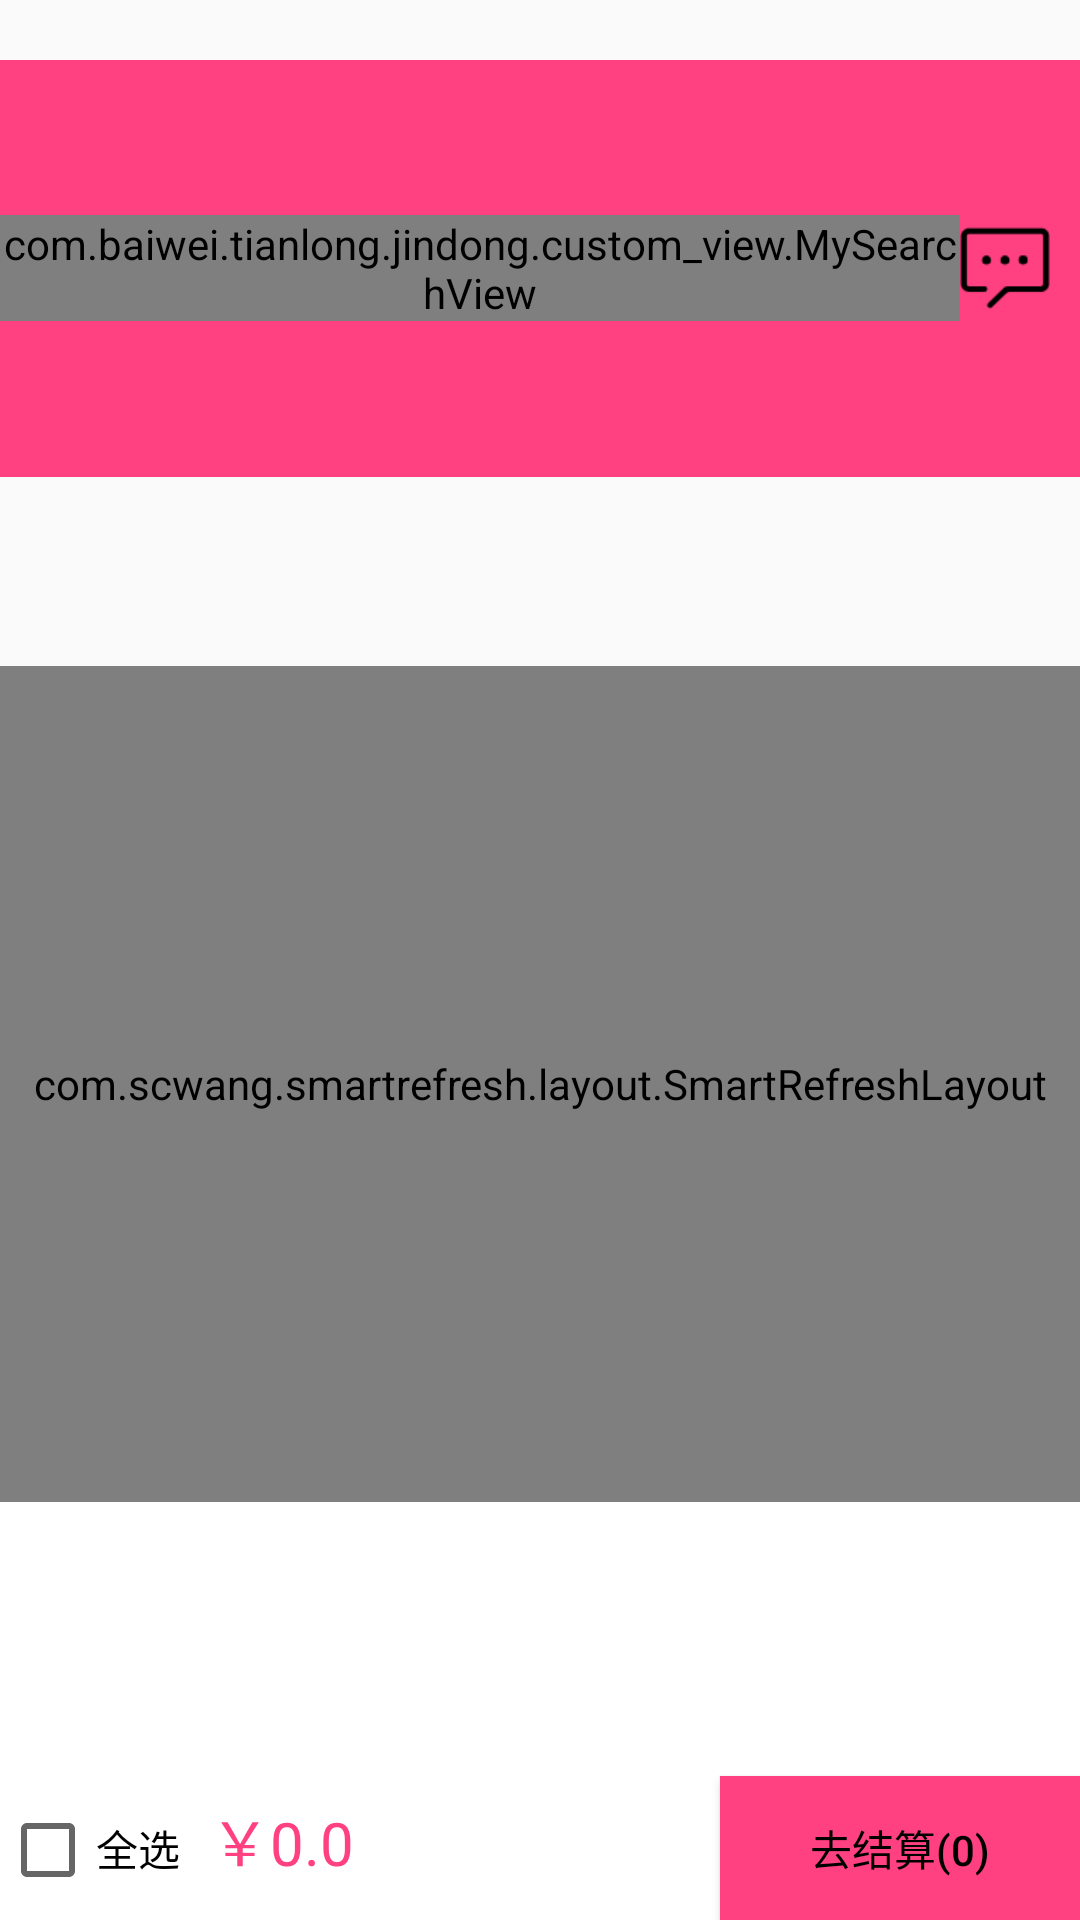

Named icons in this screenshot (1080w x 1920h) and their centers, (x=x, y=y):
order msg: (x=1005, y=268)
